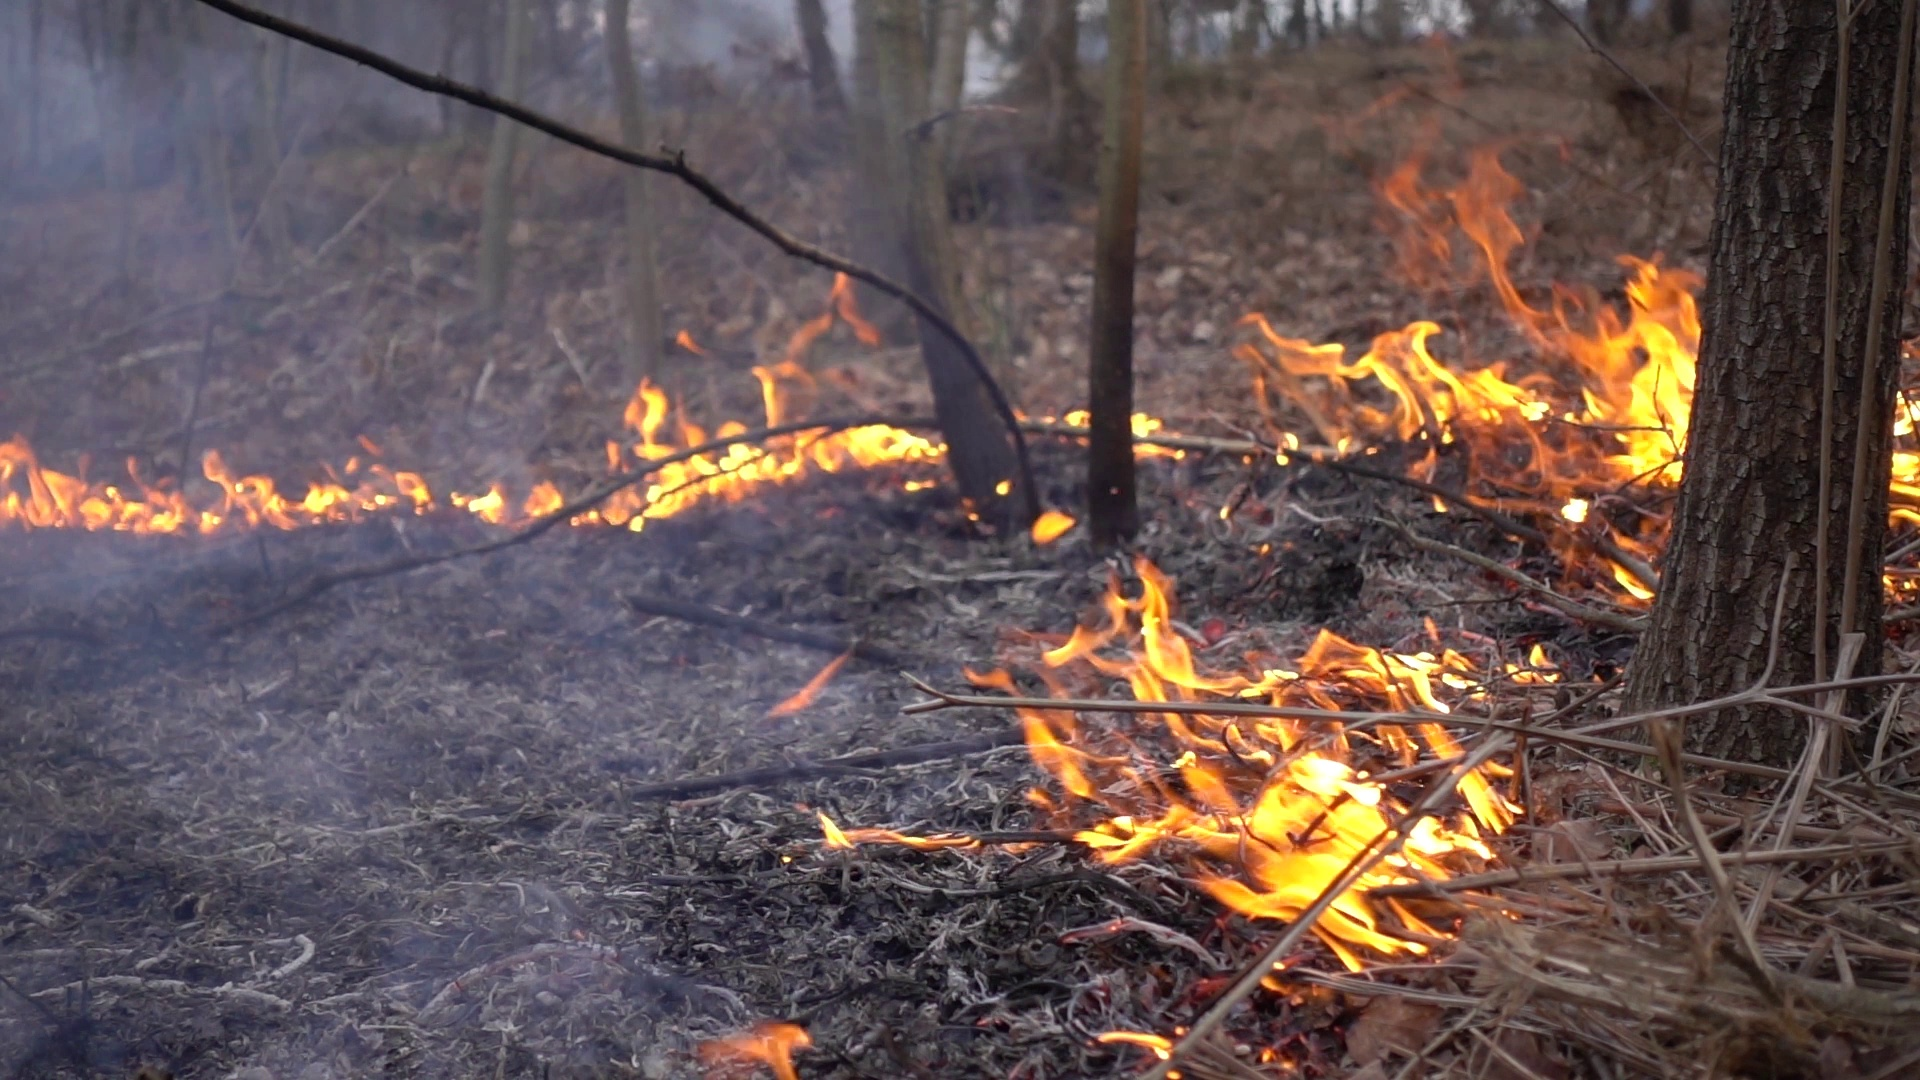fire: (1010, 570, 1520, 963), (1232, 187, 1696, 487), (611, 363, 938, 518), (4, 444, 160, 526), (311, 471, 429, 524), (208, 464, 285, 526), (1891, 394, 1920, 505), (462, 487, 502, 520)
